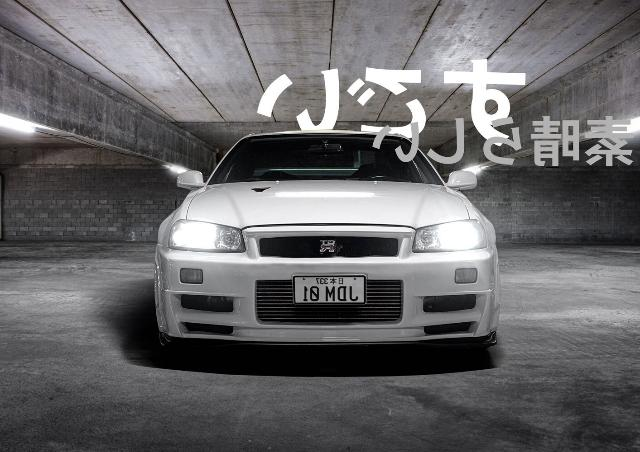Rego: (293, 275, 367, 304)
